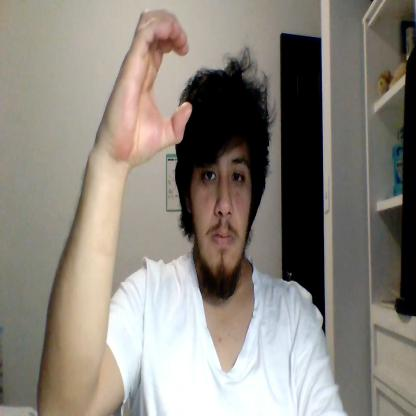C: (107, 10, 193, 166)
